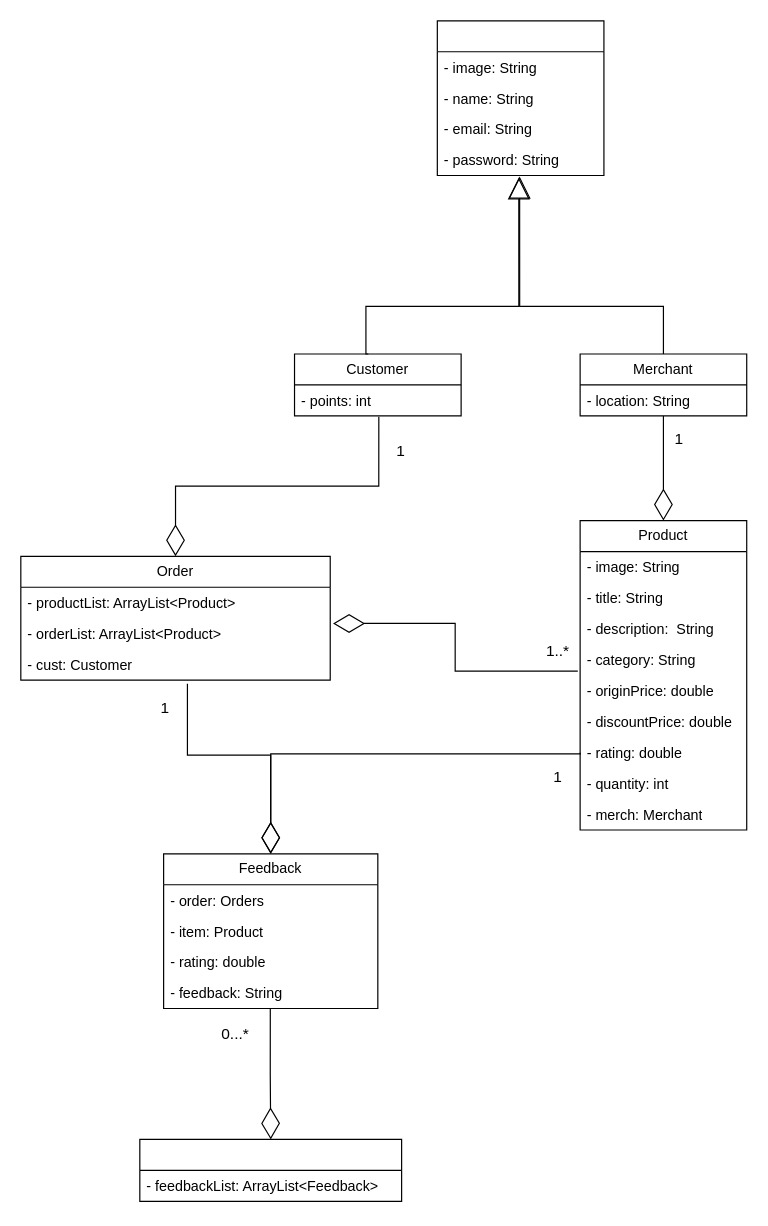
Some shapes in this 768 by 1226 pixel diagram are drawn without their labels. Each missing label, with the box of its shape:
Review: (139, 1138, 402, 1201)
User: (436, 20, 604, 176)
